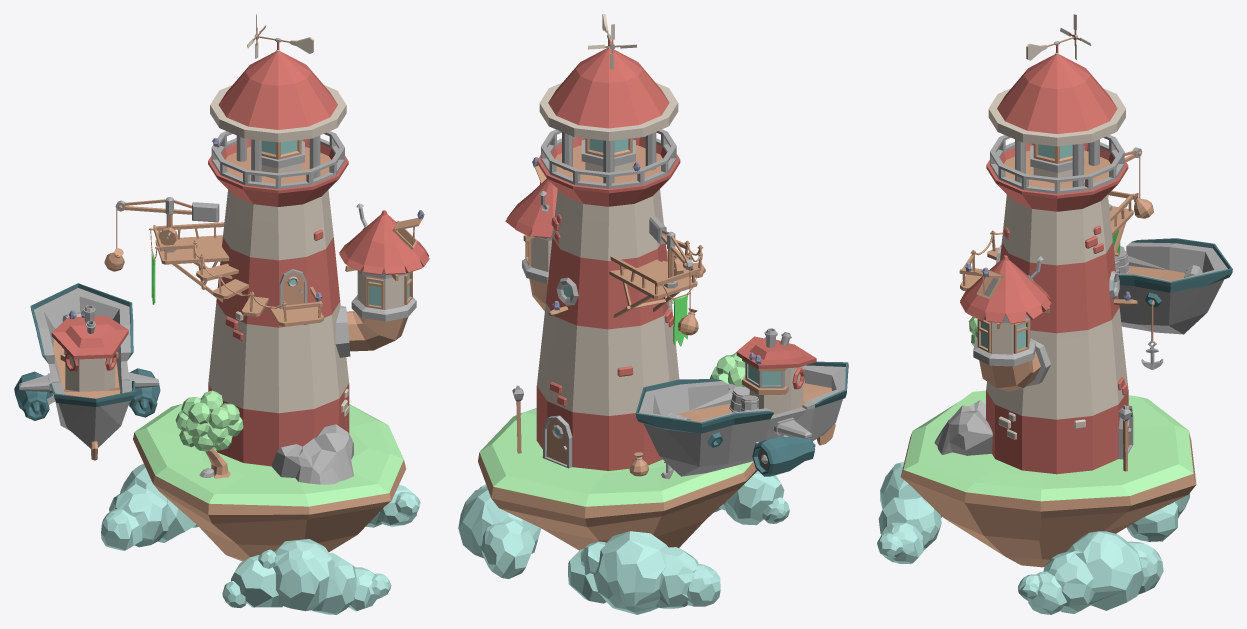
The model's file is lighthouse-in-the-sky-v1.glb.
3 views of the same model, side by side, from view 1: azimuth 30°, elevation 25°; view 2: azimuth 150°, elevation 25°; view 3: azimuth 270°, elevation 25° (orthographic).
Parts seen in each view (by area): view 1: lighthous02, lighthous20, lighthous24, lighthous21, lighthous16, lighthous22, lighthous01, lighthous19, lighthous05, lighthous04, lighthous17, lighthous23 (+2 smaller); view 2: lighthous02, lighthous24, lighthous20, lighthous22, lighthous16, lighthous23, lighthous21, lighthous07, lighthous05, lighthous01, lighthous04; view 3: lighthous02, lighthous20, lighthous24, lighthous23, lighthous21, lighthous01, lighthous05, lighthous19, lighthous16, lighthous22, lighthous17, lighthous09.
Boxes of the visible parts, bbox=[...] form: lighthous02: bbox=[208, 14, 350, 466]; lighthous20: bbox=[133, 403, 406, 561]; lighthous24: bbox=[19, 283, 159, 460]; lighthous21: bbox=[222, 539, 391, 614]; lighthous16: bbox=[104, 197, 282, 316]; lighthous22: bbox=[101, 463, 198, 550]; lighthous01: bbox=[345, 265, 416, 351]; lighthous19: bbox=[271, 424, 353, 484]; lighthous05: bbox=[339, 210, 429, 274]; lighthous04: bbox=[175, 390, 243, 451]; lighthous17: bbox=[269, 269, 323, 326]; lighthous23: bbox=[366, 484, 420, 527]; lighthous02: bbox=[536, 14, 680, 470]; lighthous24: bbox=[635, 328, 848, 479]; lighthous20: bbox=[478, 408, 757, 550]; lighthous22: bbox=[568, 531, 720, 614]; lighthous16: bbox=[609, 216, 705, 346]; lighthous23: bbox=[458, 484, 541, 578]; lighthous21: bbox=[715, 471, 789, 525]; lighthous07: bbox=[752, 436, 815, 476]; lighthous05: bbox=[505, 178, 557, 238]; lighthous01: bbox=[522, 232, 552, 311]; lighthous04: bbox=[710, 352, 745, 386]; lighthous02: bbox=[986, 14, 1137, 474]; lighthous20: bbox=[901, 390, 1196, 567]; lighthous24: bbox=[1114, 238, 1232, 369]; lighthous23: bbox=[1018, 531, 1163, 614]; lighthous21: bbox=[877, 462, 942, 564]; lighthous01: bbox=[973, 307, 1049, 391]; lighthous05: bbox=[960, 255, 1051, 324]; lighthous19: bbox=[934, 400, 992, 455]; lighthous16: bbox=[975, 147, 1153, 260]; lighthous22: bbox=[1126, 493, 1189, 541]; lighthous17: bbox=[959, 245, 1001, 290]; lighthous09: bbox=[973, 270, 1004, 299].
Bounding box in the file's own units: 15.44 × 22.09 × 13.11.
